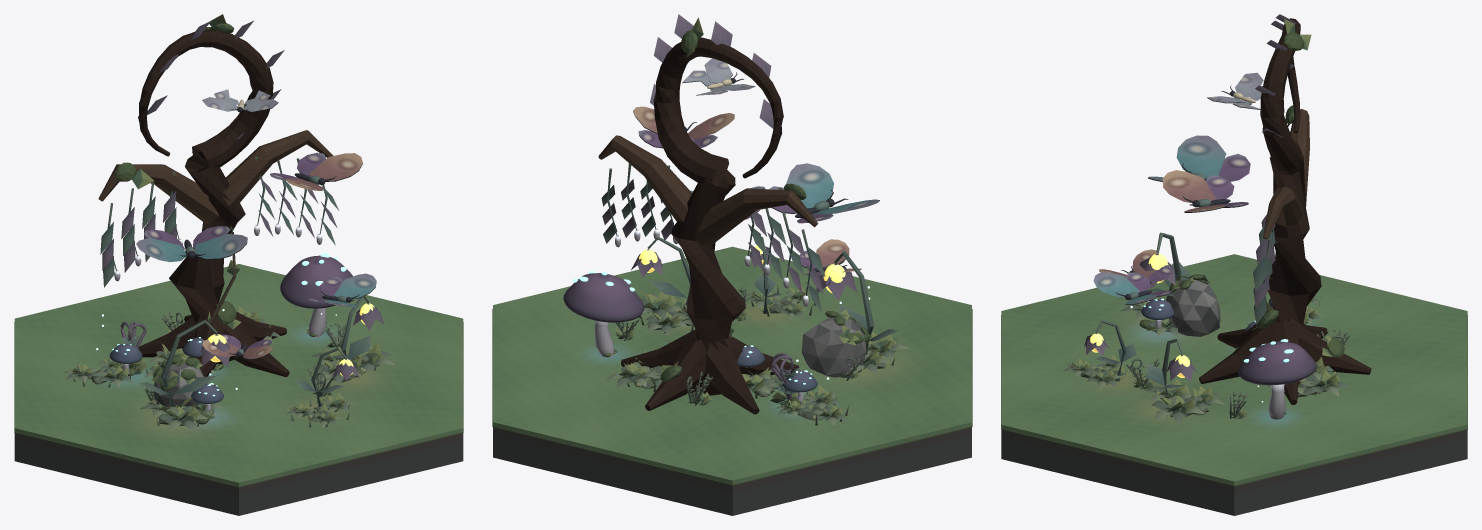
The model's file is hex_butterfly_glade.glb.
3 renders of one model, left to right at view 1: azimuth 30°, elevation 25°; view 2: azimuth 150°, elevation 25°; view 3: azimuth 270°, elevation 25°, orthographic. The views are drawn at different scales.
Parts seen in each view (by area): view 1: Standard hex meadow top.001, Dream willow coiling trunk.001, Standard hex stone foundation.001, Standard hex earth layer.001, Dream willow arching branch.003, Dream willow arching branch.002, Broad faceted mushroom cap.002, Splayed dreaming tree root.010, Painted butterfly wing.014, Painted butterfly wing.006, Angular mossy forest boulder.001, Splayed dreaming tree root.003 (+6 smaller); view 2: Standard hex meadow top.001, Dream willow coiling trunk.001, Standard hex stone foundation.001, Standard hex earth layer.001, Broad faceted mushroom cap.002, Dream willow arching branch.002, Angular mossy forest boulder.001, Dream willow arching branch.003, Splayed dreaming tree root.003, Splayed dreaming tree root.002, Painted butterfly wing.006, Splayed dreaming tree root.001 (+4 smaller); view 3: Standard hex meadow top.001, Standard hex stone foundation.001, Dream willow coiling trunk.001, Standard hex earth layer.001, Broad faceted mushroom cap.002, Angular mossy forest boulder.001, Painted butterfly wing.004, Splayed dreaming tree root.002, Splayed dreaming tree root.010, Dream willow arching branch.003, Painted butterfly wing.012, Dream willow arching branch.002 (+5 smaller).
Part boxes in pixels (x1,y1,x2,y2): Standard hex meadow top.001: (14, 264, 463, 486); Dream willow coiling trunk.001: (138, 30, 273, 364); Standard hex stone foundation.001: (14, 440, 463, 515); Standard hex earth layer.001: (14, 433, 463, 494); Dream willow arching branch.003: (223, 130, 333, 206); Dream willow arching branch.002: (98, 164, 218, 223); Broad faceted mushroom cap.002: (280, 255, 352, 308); Splayed dreaming tree root.010: (214, 316, 289, 376); Painted butterfly wing.014: (309, 153, 362, 181); Painted butterfly wing.006: (194, 233, 247, 259); Angular mossy forest boulder.001: (153, 359, 203, 407); Splayed dreaming tree root.003: (138, 312, 208, 357); Standard hex meadow top.001: (493, 246, 971, 484); Dream willow coiling trunk.001: (653, 37, 783, 395); Standard hex stone foundation.001: (493, 435, 971, 515); Standard hex earth layer.001: (493, 427, 971, 493); Broad faceted mushroom cap.002: (563, 273, 644, 322); Dream willow arching branch.002: (697, 188, 818, 244); Angular mossy forest boulder.001: (801, 317, 866, 377); Dream willow arching branch.003: (598, 135, 692, 222); Splayed dreaming tree root.003: (698, 338, 759, 414); Splayed dreaming tree root.002: (645, 332, 715, 410); Painted butterfly wing.006: (786, 163, 833, 208); Splayed dreaming tree root.001: (621, 329, 696, 368); Standard hex meadow top.001: (1001, 254, 1467, 485); Standard hex stone foundation.001: (1001, 437, 1467, 515); Dream willow coiling trunk.001: (1260, 18, 1321, 324); Standard hex earth layer.001: (1001, 429, 1467, 493); Broad faceted mushroom cap.002: (1238, 341, 1316, 385); Angular mossy forest boulder.001: (1166, 279, 1220, 336); Painted butterfly wing.004: (1176, 135, 1226, 178); Splayed dreaming tree root.002: (1285, 317, 1371, 374); Splayed dreaming tree root.010: (1199, 321, 1282, 383); Dream willow arching branch.003: (1263, 186, 1302, 239); Painted butterfly wing.012: (1162, 170, 1215, 203); Dream willow arching branch.002: (1290, 109, 1309, 205).
Bounding box in the file's own units: 5.11 × 4.05 × 4.42.
53 materials, 47 textured.
